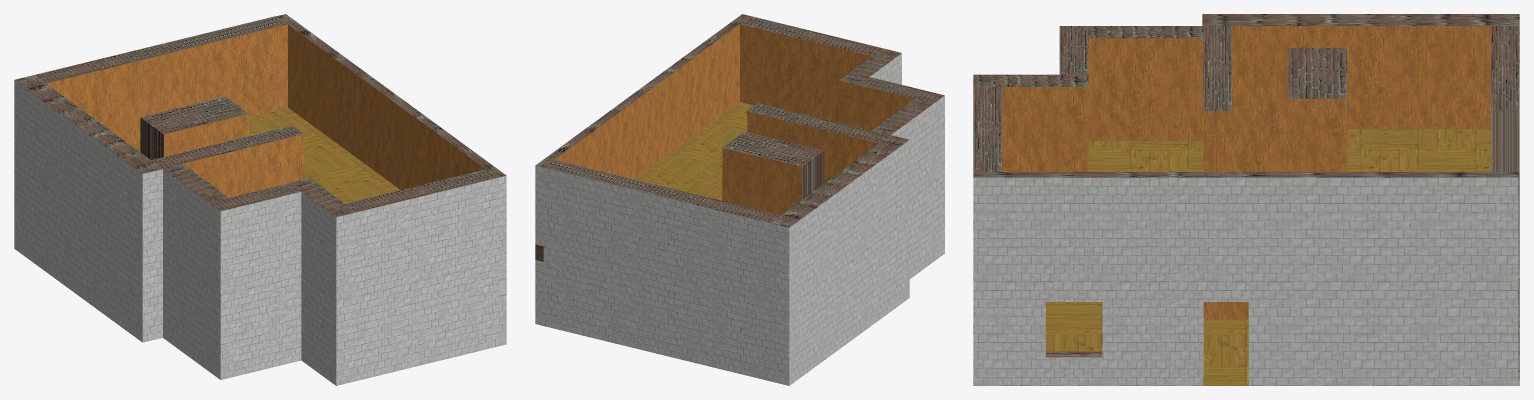
File: building.fbx
3 renders of one model, left to right at view 1: azimuth 30°, elevation 25°; view 2: azimuth 150°, elevation 25°; view 3: azimuth 270°, elevation 25°, orthographic. The views are drawn at different scales.
Visible parts, largest first — view 1: polySurface102, polySurface98, polySurface103, polySurface101, polySurface100, polySurface99, polySurface94, polySurface97, polySurface88, polySurface95; view 2: polySurface103, polySurface102, polySurface101, polySurface98, polySurface95, polySurface94, polySurface88, polySurface97, polySurface100, polySurface99; view 3: polySurface101, polySurface102, polySurface94, polySurface88, polySurface99, polySurface95, polySurface106, polySurface97, polySurface103, polySurface98, polySurface100.
Part boxes in pixels (<box>): polySurface102: <box>14,75,162,342</box>; polySurface98: <box>345,169,497,380</box>; polySurface103: <box>35,16,287,145</box>; polySurface101: <box>277,14,506,346</box>; polySurface100: <box>209,183,301,379</box>; polySurface99: <box>290,178,356,385</box>; polySurface94: <box>163,164,228,371</box>; polySurface97: <box>151,126,303,197</box>; polySurface88: <box>132,107,400,203</box>; polySurface95: <box>140,96,248,159</box>; polySurface103: <box>543,160,780,381</box>; polySurface102: <box>770,135,909,385</box>; polySurface101: <box>535,14,750,325</box>; polySurface98: <box>740,16,882,122</box>; polySurface95: <box>722,131,824,214</box>; polySurface94: <box>872,99,933,278</box>; polySurface88: <box>538,102,754,245</box>; polySurface97: <box>747,103,889,183</box>; polySurface100: <box>858,77,944,261</box>; polySurface99: <box>839,48,901,127</box>; polySurface101: <box>973,172,1518,385</box>; polySurface102: <box>1202,14,1519,171</box>; polySurface94: <box>1088,26,1203,140</box>; polySurface88: <box>1088,129,1519,278</box>; polySurface99: <box>973,74,1088,171</box>; polySurface95: <box>1288,48,1346,171</box>; polySurface106: <box>1046,302,1519,385</box>; polySurface97: <box>1203,26,1231,319</box>; polySurface103: <box>1491,26,1519,380</box>; polySurface98: <box>973,87,1001,171</box>; polySurface100: <box>1059,26,1088,74</box>.
Size of what is drawn, in the model's own units: 13.46 by 8 by 19.
